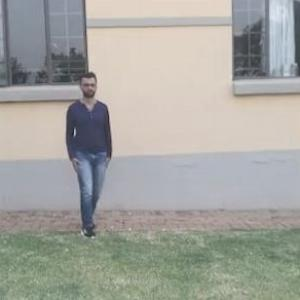follow: (66, 71, 113, 232)
